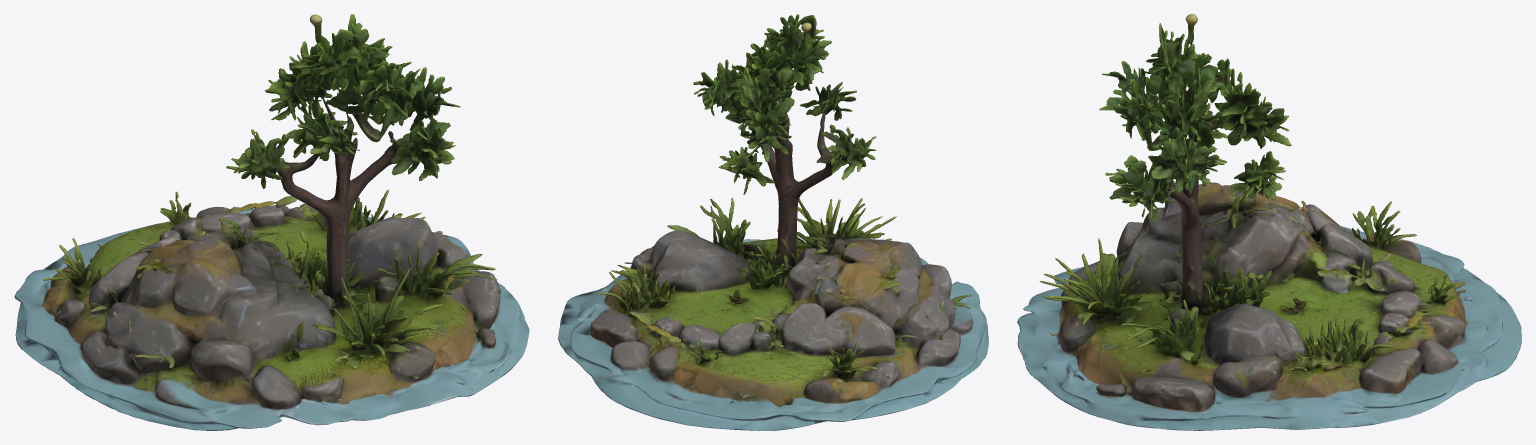
The model's file is nature-islet.glb.
3 views of the same model, side by side, from view 1: azimuth 30°, elevation 25°; view 2: azimuth 150°, elevation 25°; view 3: azimuth 270°, elevation 25° (orthographic). The views are drawn at different scales.
Parts seen in each view (by area): view 1: tripo_node_285d20c4-4c98-4307-9ca3-941858ba50d7; view 2: tripo_node_285d20c4-4c98-4307-9ca3-941858ba50d7; view 3: tripo_node_285d20c4-4c98-4307-9ca3-941858ba50d7.
Part boxes in pixels (<box>): tripo_node_285d20c4-4c98-4307-9ca3-941858ba50d7: <box>14,14,529,430</box>; tripo_node_285d20c4-4c98-4307-9ca3-941858ba50d7: <box>558,14,988,430</box>; tripo_node_285d20c4-4c98-4307-9ca3-941858ba50d7: <box>1017,14,1521,430</box>.
Bounding box in the file's own units: 3.98 × 3 × 4.13.
1 material, 1 textured.
